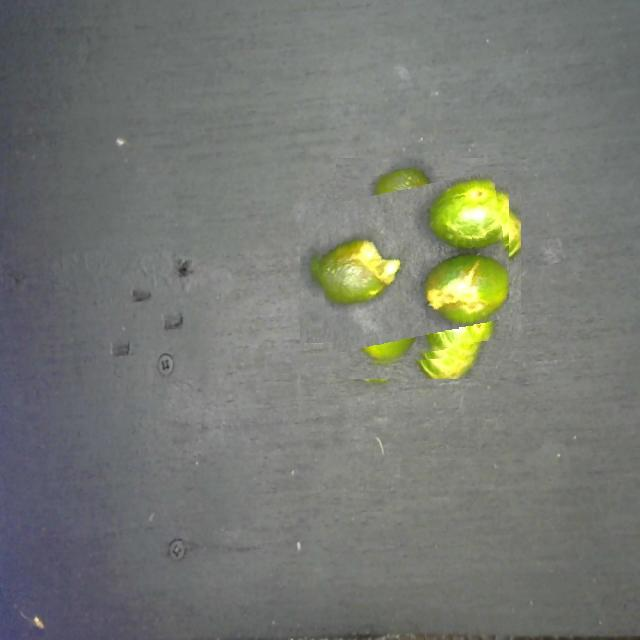biodegradable: (312, 170, 509, 367)
